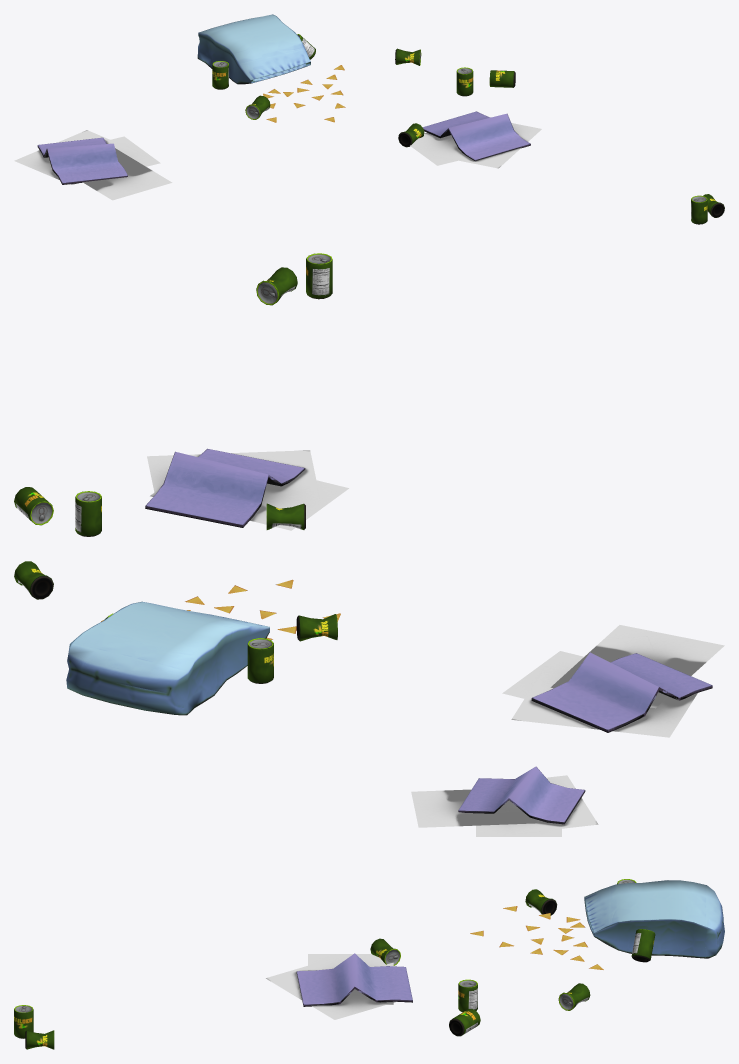
Rendered from Clutter.FBX.
3 renders of one model, top to bottom at view 1: azimuth 30°, elevation 25°; view 2: azimuth 150°, elevation 25°; view 3: azimuth 270°, elevation 25°, orthographic. The views are drawn at different scales.
Parts seen in each view (by area): view 1: Bag, Mag1, Mag002, Paper104, Paper101, Paper103, Paper1, SodaCan, Paper102, SodaCan004, SodaCan003, SodaCan002 (+3 smaller); view 2: Bag, Mag002, Mag1, Paper104, Paper103, Paper101, Paper1, SodaCan, SodaCan004, SodaCan003, Paper102, SodaCan002 (+4 smaller); view 3: Bag, Mag002, Mag1, Paper104, Paper101, Paper103, Paper102, SodaCan001, SodaCan, SodaCan002, Paper1, SodaCan004 (+4 smaller).
Boxes of the visible parts, bbox=[...] form: Bag: bbox=[197, 14, 310, 84]; Mag1: bbox=[423, 111, 530, 161]; Mag002: bbox=[37, 137, 127, 184]; Paper104: bbox=[83, 148, 172, 200]; Paper101: bbox=[432, 123, 541, 168]; Paper103: bbox=[14, 130, 138, 179]; Paper1: bbox=[410, 132, 457, 165]; SodaCan: bbox=[456, 67, 473, 96]; Paper102: bbox=[70, 136, 160, 184]; SodaCan004: bbox=[691, 195, 707, 224]; SodaCan003: bbox=[212, 61, 228, 89]; SodaCan002: bbox=[489, 70, 515, 87]; Bag: bbox=[66, 601, 269, 715]; Mag002: bbox=[531, 652, 712, 732]; Mag1: bbox=[145, 448, 305, 527]; Paper104: bbox=[550, 625, 724, 708]; Paper103: bbox=[511, 672, 697, 737]; Paper101: bbox=[147, 450, 320, 501]; Paper1: bbox=[150, 480, 348, 530]; SodaCan: bbox=[75, 491, 101, 536]; SodaCan004: bbox=[306, 253, 332, 299]; SodaCan003: bbox=[247, 638, 273, 683]; Paper102: bbox=[502, 651, 583, 698]; SodaCan002: bbox=[14, 487, 53, 525]; Bag: bbox=[584, 880, 724, 958]; Mag002: bbox=[458, 766, 585, 824]; Mag1: bbox=[296, 953, 412, 1006]; Paper104: bbox=[411, 789, 538, 827]; Paper101: bbox=[266, 957, 396, 1019]; Paper103: bbox=[510, 775, 598, 833]; Paper102: bbox=[476, 824, 561, 836]; SodaCan001: bbox=[631, 929, 655, 962]; SodaCan: bbox=[458, 979, 477, 1012]; SodaCan002: bbox=[449, 1009, 480, 1036]; Paper1: bbox=[308, 954, 393, 1004]; SodaCan004: bbox=[14, 1005, 33, 1038].
Size of the model in its own units: 36.67 by 2.39 by 40.21.
1 material, 1 textured.
